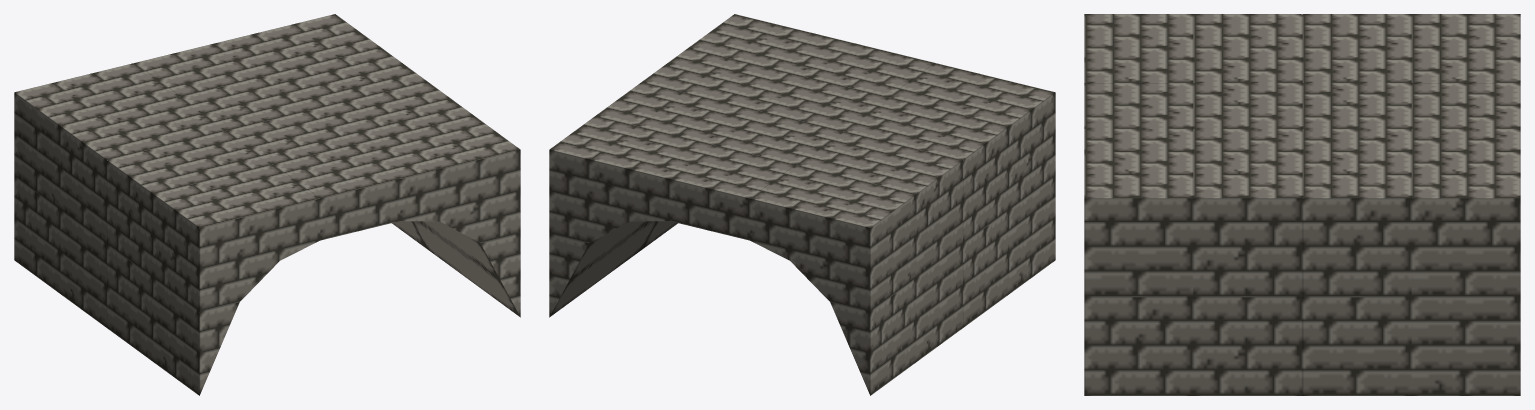
The model's file is Ceiling_Arch_Wide_x2.fbx.
The picture shows the model from 3 angles, left to right: view 1: azimuth 30°, elevation 25°; view 2: azimuth 150°, elevation 25°; view 3: azimuth 270°, elevation 25°; orthographic projection. The views are drawn at different scales.
Parts seen in each view (by area): view 1: Ceiling_Arch_Wide_x2; view 2: Ceiling_Arch_Wide_x2; view 3: Ceiling_Arch_Wide_x2.
Part boxes in pixels (x1,y1,x2,y2): Ceiling_Arch_Wide_x2: (14, 14, 520, 395); Ceiling_Arch_Wide_x2: (549, 14, 1055, 395); Ceiling_Arch_Wide_x2: (1084, 14, 1520, 395).
Bounding box in the file's own units: 800 × 400 × 800.
Materials: 1 (1 with a texture image).
